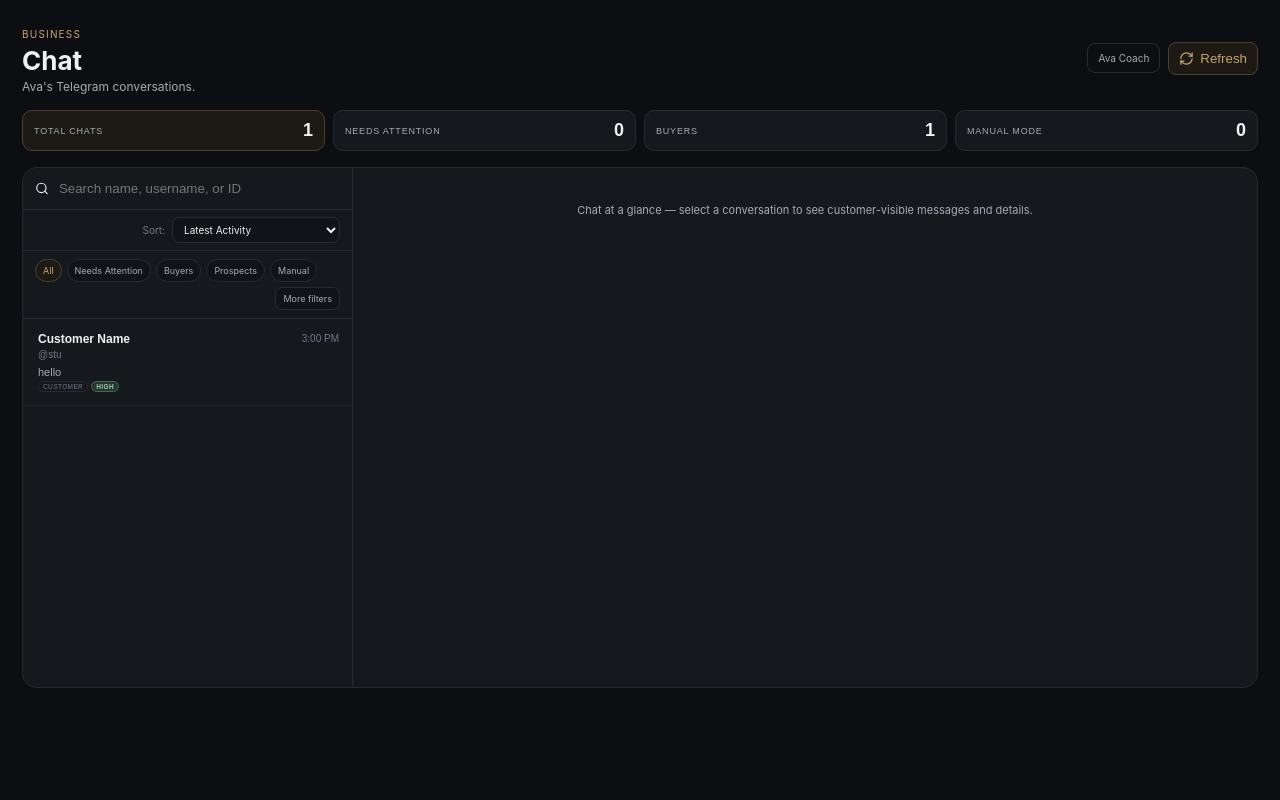
Test: shows CUSTOMER only from authoritative buyer state
The image size is (1280, 800).
Expected: the text "CUSTOMER" is shown, [38,381,88,392]
Click the button "Customer Name @stu hello CUSTOMER HIGH 3:00 PM": (84, 339) [23,319,352,406]
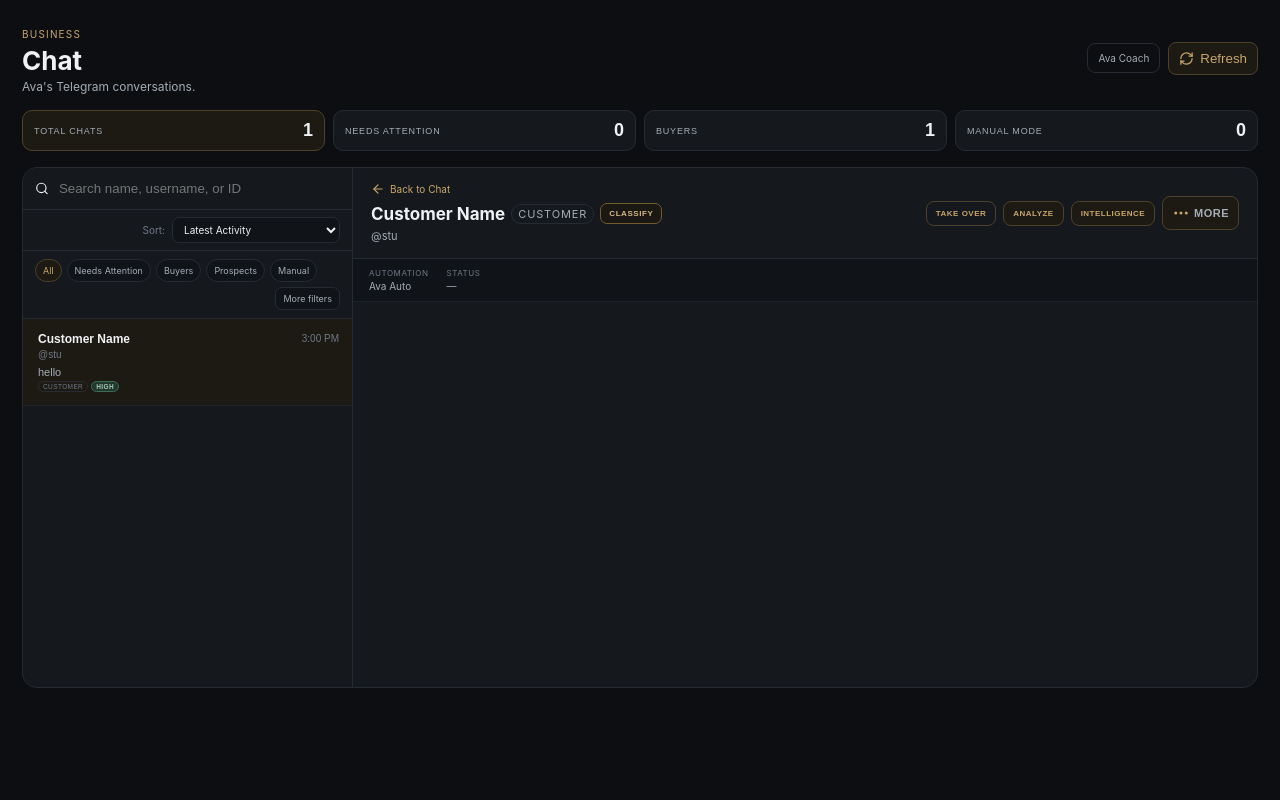
Result: the text "CUSTOMER" is shown 2 times at [38,381,88,392]; [511,204,594,224]
